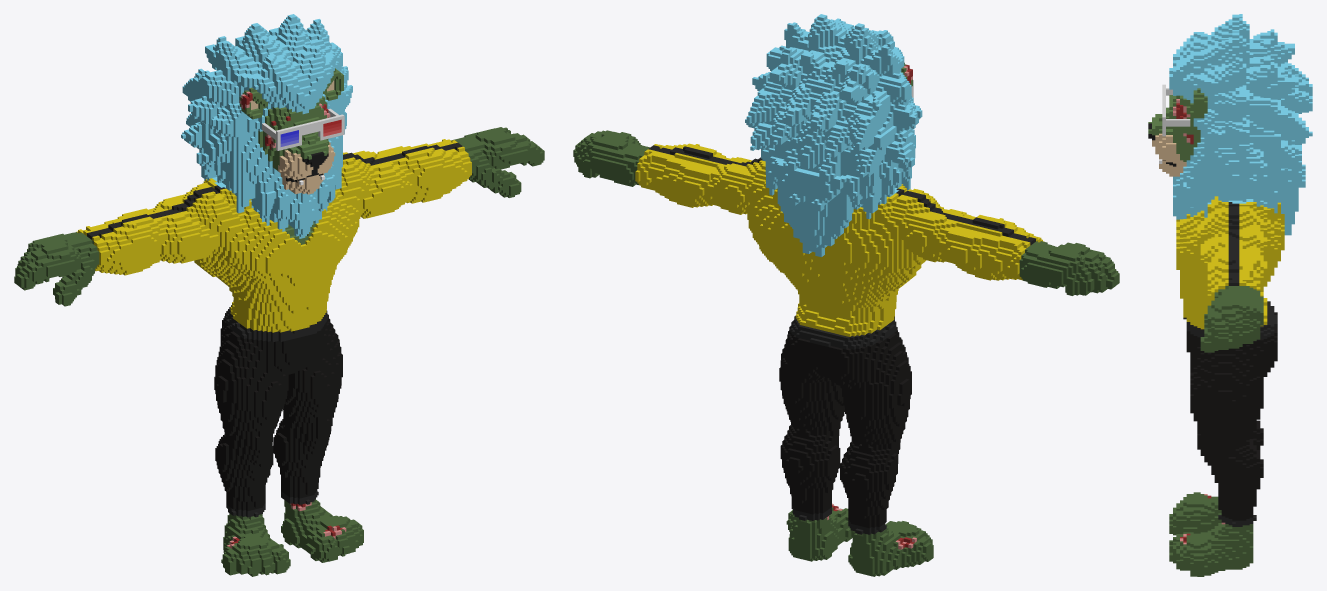
3 views of the same model, side by side, from view 1: azimuth 30°, elevation 25°; view 2: azimuth 150°, elevation 25°; view 3: azimuth 270°, elevation 25° (orthographic). The views are drawn at different scales.
Visible parts, largest first — view 1: standard; view 2: standard; view 3: standard.
Part boxes in pixels (<box>): standard: <box>14,14,544,576</box>; standard: <box>573,14,1119,576</box>; standard: <box>1148,14,1312,576</box>.
Size of the model in its own units: 17.2 by 16.5 by 4.7.
Materials: 5 (5 with a texture image).
